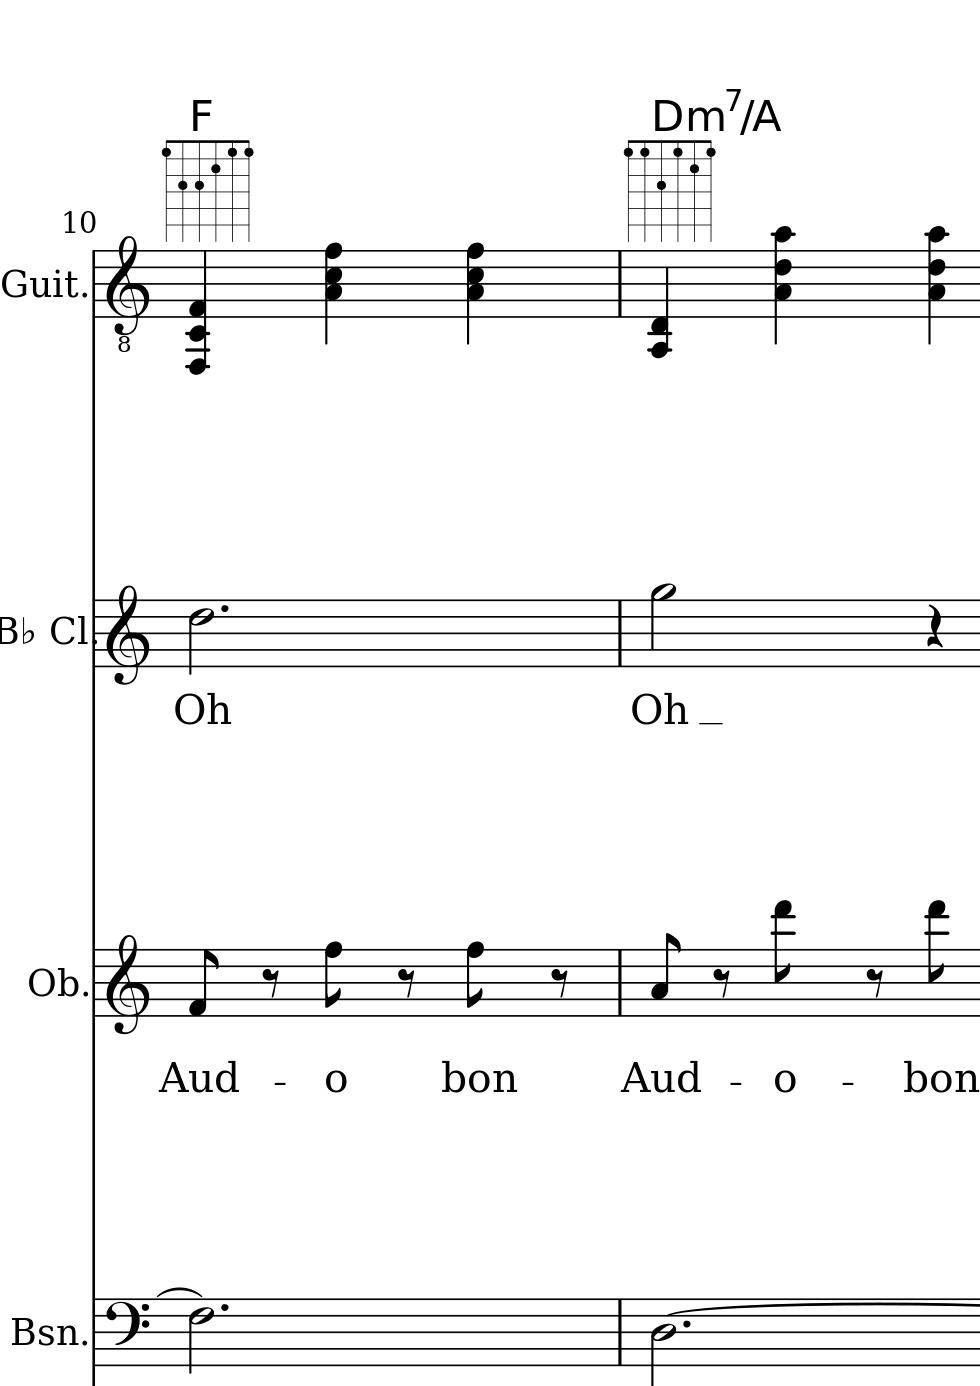0: (78, 207, 97, 238)
1: (62, 208, 77, 239)
2_4: (648, 1296, 676, 1386)
2_6: (187, 1296, 215, 1375), (187, 598, 215, 677)
2_9: (649, 582, 677, 669)
4_-4_-1: (646, 247, 673, 359)
4_th: (921, 224, 951, 346), (183, 251, 212, 376), (767, 226, 797, 346), (463, 242, 485, 344), (321, 243, 343, 344)
8_1: (188, 946, 218, 1017)
8_13: (924, 899, 950, 1018), (771, 899, 795, 1021)
8_3: (648, 931, 682, 1019)
8_8: (463, 940, 486, 1019), (321, 941, 344, 1019)
Bsn: (8, 1312, 78, 1352)
Cl: (48, 610, 87, 647)
Fclef: (105, 1298, 152, 1369)
Fretboard: (620, 133, 716, 242), (160, 135, 253, 244)
Gclef: (105, 583, 152, 687), (103, 934, 151, 1035)
Guit: (2, 263, 81, 308)
Lower_Gclef: (105, 235, 151, 358)
Ob: (28, 963, 78, 1003)
Rests4: (924, 602, 945, 649)
Rests8: (395, 966, 417, 1002), (863, 966, 887, 999), (260, 966, 282, 1000), (548, 966, 571, 1000), (710, 966, 732, 1000)
Single_barline: (611, 1298, 629, 1367), (86, 949, 103, 1019), (613, 599, 629, 669), (611, 949, 627, 1016), (611, 252, 627, 318), (88, 599, 103, 668), (88, 1298, 102, 1365), (87, 250, 100, 319)
Slur: (155, 1287, 203, 1298)
dot: (680, 1318, 692, 1332), (218, 1301, 231, 1313), (218, 602, 230, 614)
